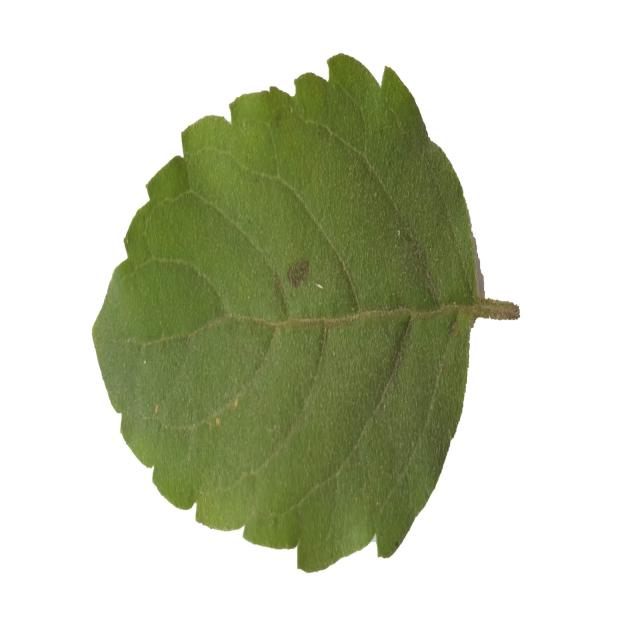tulsi: (86, 52, 518, 572)
